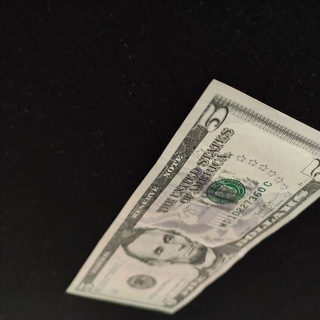5USDFront: (65, 78, 320, 315)
